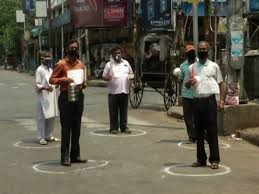mask: (196, 39, 210, 60), (38, 48, 52, 67), (67, 39, 79, 57), (111, 46, 121, 62), (183, 50, 194, 62)
